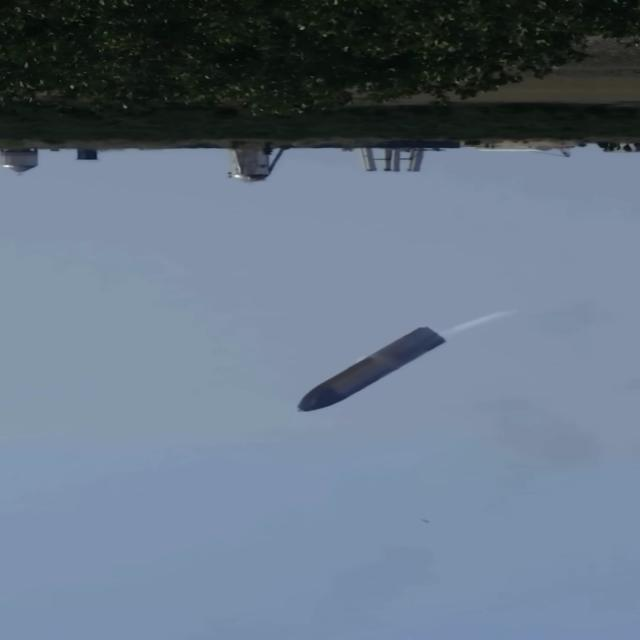missile: (294, 323, 446, 415)
